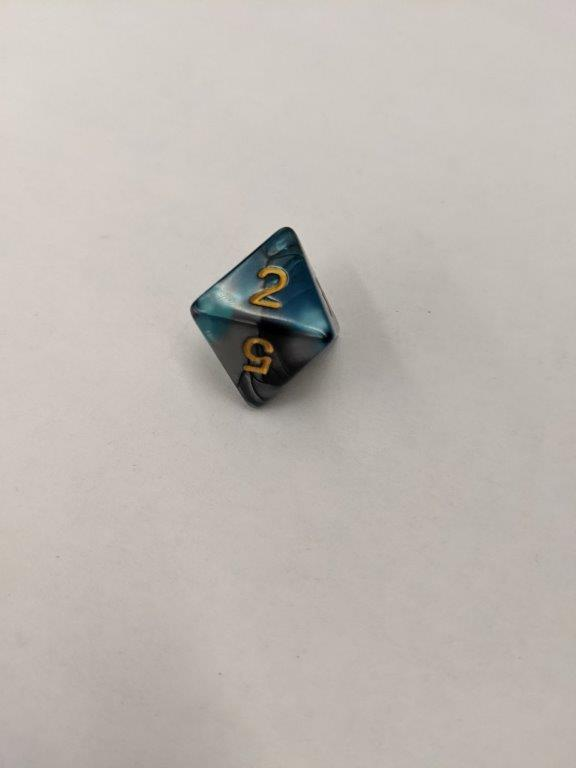d8-2: (192, 228, 336, 409)
